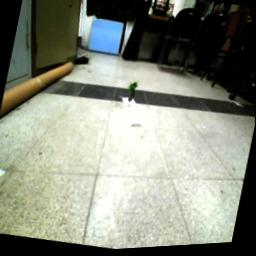herb: (126, 83, 140, 107)
